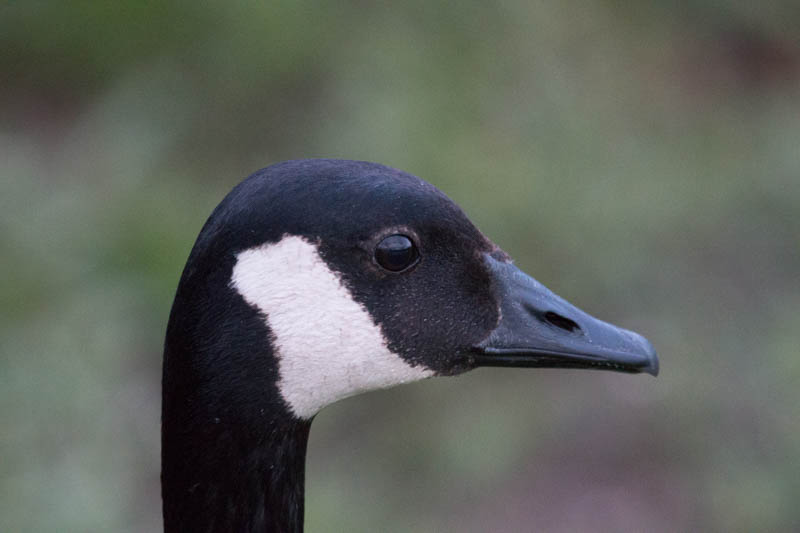goose-head: (161, 159, 659, 426)
